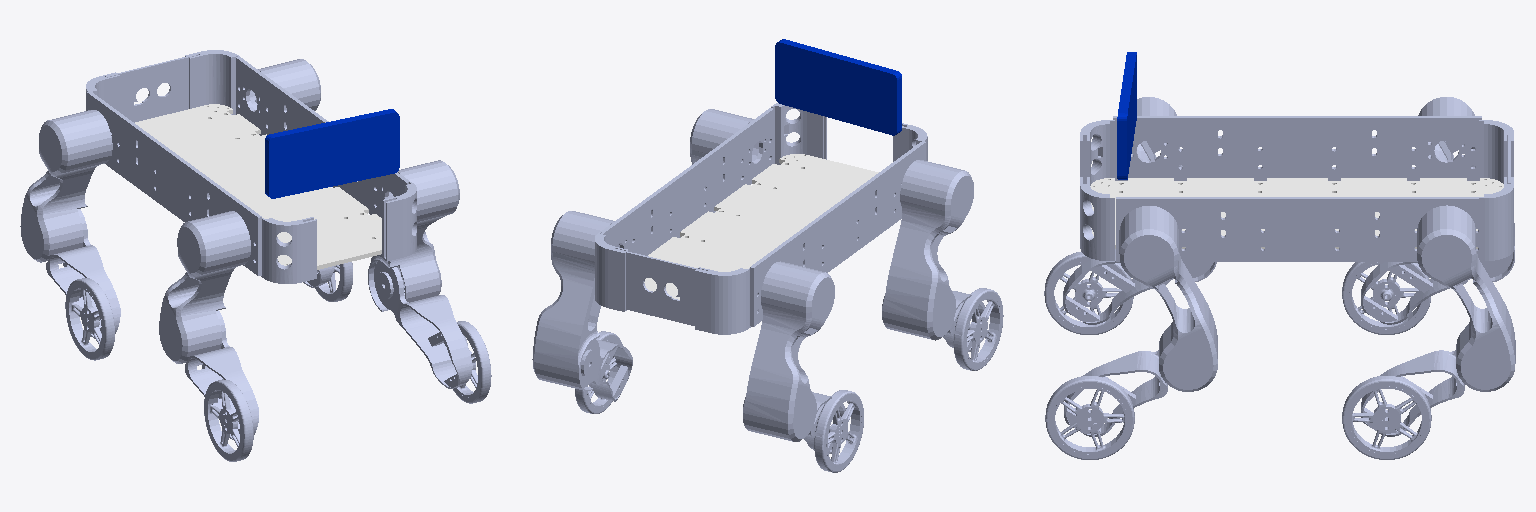
robot.urdf — bangar:
<robot name="bangar">
  <link name="world"/>

   <joint name="world_to_base" type="fixed">
   <origin xyz="0 0 0" rpy="1.5708 0 0" />
   <parent link="world"/>
   <child link="base_link"/>
   </joint>
  <link name="base_link">
    <inertial>
      <origin xyz="0 0.00250000000000006 0" rpy="0 0 0" />
      <mass value="0.343903626200047" />
      <inertia ixx="0.00491345484236187" ixy="6.75209481308794E-23" ixz="9.56560652490405E-17"
               iyy="0.00567401345499297" iyz="-5.51940362752493E-21" izz="0.000761991544406925" />
    </inertial>
    <visual>
      <origin xyz="0 0 0" rpy="0 0 0" />
      <geometry><mesh filename="package://bangar/meshes/base_link.STL" /></geometry>
      <material name=""><color rgba="1 1 1 0.25" /></material>
    </visual>
    <collision>
      <origin xyz="0 0 0" rpy="0 0 0" />
      <geometry><mesh filename="package://bangar/meshes/base_link.STL" /></geometry>
    </collision>
  </link>

  <link name="left_side_link">
    <inertial>
      <origin xyz="0.0916207149155673 0.0293825036603796 -0.00341679023859331" rpy="0 0 0" />
      <mass value="0.122569497291097" />
      <inertia ixx="0.00140403619489622" ixy="-1.04966211515225E-09" ixz="-1.23875379054153E-07"
               iyy="0.00135175741702045" iyz="6.20890609011411E-07" izz="5.27895068738471E-05" />
    </inertial>
    <visual>
      <origin xyz="0 0 0" rpy="0 0 0" />
      <geometry><mesh filename="package://bangar/meshes/left_side_link.STL" /></geometry>
      <material name=""><color rgba="0.792156862745098 0.819607843137255 0.933333333333333 0.25" /></material>
    </visual>
    <collision>
      <origin xyz="0 0 0" rpy="0 0 0" />
      <geometry><mesh filename="package://bangar/meshes/left_side_link.STL" /></geometry>
    </collision>
  </link>

  <!-- Fixed: left_side stays fixed -->
  <joint name="left_side" type="fixed">
    <origin xyz="0 0 0" rpy="0 0 0" />
    <parent link="base_link" />
    <child link="left_side_link" />
    <axis xyz="0 0 0" />
  </joint>

  <link name="front_left_shoulder_link">
    <inertial>
      <origin xyz="-0.0242498427561751 -0.0615532399041465 -0.028205687060837" rpy="0 0 0" />
      <mass value="0.111436500014166" />
      <inertia ixx="0.000343151525758645" ixy="7.27108048623746E-06" ixz="-3.7830501022758E-06"
               iyy="0.000103200990321563" iyz="-9.02486413113497E-05" izz="0.000311962726644771" />
    </inertial>
    <visual>
      <origin xyz="0 0 -0.300260" rpy="0 0 0" />
      <geometry><mesh filename="package://bangar/meshes/front_left_shoulder_link.STL" /></geometry>
      <material name=""><color rgba="0.792156862745098 0.819607843137255 0.933333333333333 0.25" /></material>
    </visual>
    <collision>
      <origin xyz="0 0 -0.300260" rpy="0 0 0" />
      <geometry><mesh filename="package://bangar/meshes/front_left_shoulder_link.STL" /></geometry>
    </collision>
  </link>

  <!-- Fixed: proper limits for revolute joint -->
  <joint name="front_left_shoulder_joint" type="revolute">
    <origin xyz="0.15992 0.030824 0.15001" rpy="0 0 0" />
    <parent link="left_side_link" />
    <child link="front_left_shoulder_link" />
    <axis xyz="1 -2.1167E-05 -9.1685E-05" />
    <limit lower="-0.8" upper="0.8" effort="10" velocity="1.0" />
  </joint>

  <link name="front_left_knee_link">
    <inertial>
      <origin xyz="0.0163780260957682 -0.024186201715927 0.0427447139754695" rpy="0 0 0" />
      <mass value="0.0469764065146903" />
      <inertia ixx="0.000115003731465052" ixy="9.25199470142066E-06" ixz="-1.62071012049242E-05"
               iyy="8.99552098264021E-05" iyz="3.85584278751766E-05" izz="4.17691836399353E-05" />
    </inertial>
    <visual>
      <origin xyz="0 0 0" rpy="0 0 0" />
      <geometry><mesh filename="package://bangar/meshes/front_left_knee_link.STL" /></geometry>
      <material name=""><color rgba="0.792156862745098 0.819607843137255 0.933333333333333 0.25" /></material>
    </visual>
    <collision>
      <origin xyz="0 0 0" rpy="0 0 0" />
      <geometry><mesh filename="package://bangar/meshes/front_left_knee_link.STL" /></geometry>
    </collision>
  </link>

  <joint name="front_left_knee_joint" type="revolute">
    <origin xyz="-0.053581 -0.12362 -0.03993" rpy="0 0 0" />
    <parent link="front_left_shoulder_link" />
    <child link="front_left_knee_link" />
    <axis xyz="-1 2.1167E-05 9.1685E-05" />
    <limit lower="-1.2" upper="1.2" effort="10" velocity="1.0" />
  </joint>

  <link name="front_left_wheel_link">
    <inertial>
      <origin xyz="-0.00345948367577542 3.08599354889028E-05 -0.000243325319884358" rpy="0 0 0" />
      <mass value="0.0364044010438608" />
      <inertia ixx="4.90745198318007E-05" ixy="-5.23308940466511E-10" ixz="-2.34496946233023E-09"
               iyy="2.49257369703414E-05" iyz="-2.48564969046693E-10" izz="2.49045978562694E-05" />
    </inertial>
    <visual>
      <origin xyz="0 0 0" rpy="0 0 0" />
      <geometry><mesh filename="package://bangar/meshes/front_left_wheel_link.STL" /></geometry>
      <material name=""><color rgba="0.792156862745098 0.819607843137255 0.933333333333333 1" /></material>
    </visual>
    <collision>
      <origin xyz="0 0 0" rpy="0 0 0" />
      <geometry><mesh filename="package://bangar/meshes/front_left_wheel_link.STL" /></geometry>
    </collision>
  </link>

  <!-- Wheel: continuous so it can spin freely -->
  <joint name="front_left_wheel_joint" type="continuous">
    <origin xyz="0.045701 -0.060692 0.098927" rpy="0 0 0" />
    <parent link="front_left_knee_link" />
    <child link="front_left_wheel_link" />
    <axis xyz="1 -2.1167E-05 -9.1685E-05" />
  </joint>

  <link name="back_left_shoulder_link">
    <inertial>
      <origin xyz="-0.024277343823541 -0.0614127013324818 -0.0279336093794531" rpy="0 0 0" />
      <mass value="0.111436501193758" />
      <inertia ixx="0.000343151527784128" ixy="7.27033134841043E-06" ixz="-3.78449369812867E-06"
               iyy="0.000103165125527687" iyz="-9.02071431964769E-05" izz="0.000311998595046311" />
    </inertial>
    <visual>
      <origin xyz="0 0 0" rpy="0 0 0" />
      <geometry><mesh filename="package://bangar/meshes/back_left_shoulder_link.STL" /></geometry>
      <material name=""><color rgba="0.792156862745098 0.819607843137255 0.933333333333333 0.25" /></material>
    </visual>
    <collision>
      <origin xyz="0 0 0" rpy="0 0 0" />
      <geometry><mesh filename="package://bangar/meshes/back_left_shoulder_link.STL" /></geometry>
    </collision>
  </link>

  <!-- Fixed: back_left_shoulder changed from fixed to revolute so it can move -->
  <joint name="back_left_shoulder_joint" type="revolute">
    <origin xyz="0.15992 0.030824 -0.15001" rpy="0 0 0" />
    <parent link="left_side_link" />
    <child link="back_left_shoulder_link" />
    <axis xyz="1 -2.1167E-05 -9.1685E-05" />
    <limit lower="-0.8" upper="0.8" effort="10" velocity="1.0" />
  </joint>

  <link name="back_left_knee_link">
    <inertial>
      <origin xyz="0.0163780267171882 -0.0241777054605389 0.0427495200491601" rpy="0 0 0" />
      <mass value="0.0469764065207139" />
      <inertia ixx="0.000115003730996126" ixy="9.2487739889618E-06" ixz="-1.62089407217268E-05"
               iyy="8.99705351707301E-05" iyz="3.85488475607292E-05" izz="4.17538587787389E-05" />
    </inertial>
    <visual>
      <origin xyz="0 0 0" rpy="0 0 0" />
      <geometry><mesh filename="package://bangar/meshes/back_left_knee_link.STL" /></geometry>
      <material name=""><color rgba="0.792156862745098 0.819607843137255 0.933333333333333 0.25" /></material>
    </visual>
    <collision>
      <origin xyz="0 0 0" rpy="0 0 0" />
      <geometry><mesh filename="package://bangar/meshes/back_left_knee_link.STL" /></geometry>
    </collision>
  </link>

  <joint name="back_left_knee_joint" type="revolute">
    <origin xyz="-0.053609 -0.12348 -0.038963" rpy="0 0 0" />
    <parent link="back_left_shoulder_link" />
    <child link="back_left_knee_link" />
    <axis xyz="-1 2.1167E-05 9.1685E-05" />
    <limit lower="-1.2" upper="1.2" effort="10" velocity="1.0" />
  </joint>

  <link name="back_left_wheel_link">
    <inertial>
      <origin xyz="-0.00311043056266247 0.00343350444922308 -0.000594060142661279" rpy="0 0 0" />
      <mass value="0.0364044017227486" />
      <inertia ixx="4.9074520095698E-05" ixy="-4.99042727389426E-10" ixz="-2.08701996387899E-09"
               iyy="2.49257371479056E-05" iyz="-2.4849390943564E-10" izz="2.49045978738901E-05" />
    </inertial>
    <visual>
      <origin xyz="0 0 0" rpy="0 0 0" />
      <geometry><mesh filename="package://bangar/meshes/back_left_wheel_link.STL" /></geometry>
      <material name=""><color rgba="0.792156862745098 0.819607843137255 0.933333333333333 1" /></material>
    </visual>
    <collision>
      <origin xyz="0 0 0" rpy="0 0 0" />
      <geometry><mesh filename="package://bangar/meshes/back_left_wheel_link.STL" /></geometry>
    </collision>
  </link>

  <joint name="back_left_wheel_joint" type="continuous">
    <origin xyz="0.045352 -0.064075 0.099293" rpy="0 0 0" />
    <parent link="back_left_knee_link" />
    <child link="back_left_wheel_link" />
    <axis xyz="1 -2.1167E-05 -9.1685E-05" />
  </joint>

  <link name="right_side_link">
    <inertial>
      <origin xyz="-0.0958938589842034 0.0325565576507896 -0.000443152444056238" rpy="0 0 0" />
      <mass value="0.122569497291098" />
      <inertia ixx="0.00140403619489626" ixy="-1.04897582174696E-09" ixz="-1.23875219915196E-07"
               iyy="0.00135175740981989" iyz="6.28377643997383E-07" izz="5.27895140743918E-05" />
    </inertial>
    <visual>
      <origin xyz="0 0 0" rpy="0 0 0" />
      <geometry><mesh filename="package://bangar/meshes/right_side_link.STL" /></geometry>
      <material name=""><color rgba="0.792156862745098 0.819607843137255 0.933333333333333 0.25" /></material>
    </visual>
    <collision>
      <origin xyz="0 0 0" rpy="0 0 0" />
      <geometry><mesh filename="package://bangar/meshes/right_side_link.STL" /></geometry>
    </collision>
  </link>

  <!-- Fixed: right_side changed from continuous to fixed - was causing dislocation -->
  <joint name="right_side" type="fixed">
    <origin xyz="0 0 0" rpy="0 0 0" />
    <parent link="base_link" />
    <child link="right_side_link" />
    <axis xyz="0 0 0" />
  </joint>

  <link name="front_right_shoulder_link">
    <inertial>
      <origin xyz="0.0242695314756922 -0.0614083034868564 -0.0279500671367425" rpy="0 0 0" />
      <mass value="0.111437039455002" />
      <inertia ixx="0.000343154721624471" ixy="-7.29809879433052E-06" ixz="3.77362272396463E-06"
               iyy="0.00010320146557749" iyz="-9.0246819210571E-05" izz="0.000311964079702084" />
    </inertial>
    <visual>
      <origin xyz="0 0 0" rpy="0 0 0" />
      <geometry><mesh filename="package://bangar/meshes/front_right_shoulder_link.STL" /></geometry>
      <material name=""><color rgba="0.792156862745098 0.819607843137255 0.933333333333333 1" /></material>
    </visual>
    <collision>
      <origin xyz="0 0 0" rpy="0 0 0" />
      <geometry><mesh filename="package://bangar/meshes/front_right_shoulder_link.STL" /></geometry>
    </collision>
  </link>

  <!-- Fixed: front_right_shoulder changed from fixed to revolute -->
  <joint name="front_right_shoulder_joint" type="revolute">
    <origin xyz="-0.16418 0.030684 0.15002" rpy="0 0 0" />
    <parent link="right_side_link" />
    <child link="front_right_shoulder_link" />
    <axis xyz="-1 2.1167E-05 9.1685E-05" />
    <limit lower="-0.8" upper="0.8" effort="10" velocity="1.0" />
  </joint>

  <link name="front_right_knee_link">
    <inertial>
      <origin xyz="-0.0163710579816588 -0.025335304234355 0.0436819299069255" rpy="0 0 0" />
      <mass value="0.0469762290004462" />
      <inertia ixx="0.000115008138991003" ixy="-9.245774373626E-06" ixz="1.6195157879913E-05"
               iyy="8.9955520215524E-05" iyz="3.85590798612249E-05" izz="4.17627254222805E-05" />
    </inertial>
    <visual>
      <origin xyz="0 0 0" rpy="0 0 0" />
      <geometry><mesh filename="package://bangar/meshes/front_right_knee_link.STL" /></geometry>
      <material name=""><color rgba="0.792156862745098 0.819607843137255 0.933333333333333 1" /></material>
    </visual>
    <collision>
      <origin xyz="0 0 0" rpy="0 0 0" />
      <geometry><mesh filename="package://bangar/meshes/front_right_knee_link.STL" /></geometry>
    </collision>
  </link>

  <joint name="front_right_knee_joint" type="revolute">
    <origin xyz="0.053596 -0.12233 -0.039931" rpy="0 0 0" />
    <parent link="front_right_shoulder_link" />
    <child link="front_right_knee_link" />
    <axis xyz="1 -2.1167E-05 -9.1685E-05" />
    <limit lower="-1.2" upper="1.2" effort="10" velocity="1.0" />
  </joint>

  <link name="front_right_wheel_link">
    <inertial>
      <origin xyz="0.00345943903176227 -3.08602156906534E-05 -0.000243959080044265" rpy="0 0 0" />
      <mass value="0.0364044019910403" />
      <inertia ixx="4.90745203444793E-05" ixy="-5.23235544885243E-10" ixz="-2.0870404791462E-09"
               iyy="2.49257374202785E-05" iyz="2.48762408851665E-10" izz="2.49045978223675E-05" />
    </inertial>
    <visual>
      <origin xyz="0 0 0" rpy="0 0 0" />
      <geometry><mesh filename="package://bangar/meshes/front_right_wheel_link.STL" /></geometry>
      <material name=""><color rgba="0.792156862745098 0.819607843137255 0.933333333333333 1" /></material>
    </visual>
    <collision>
      <origin xyz="0 0 0" rpy="0 0 0" />
      <geometry><mesh filename="package://bangar/meshes/front_right_wheel_link.STL" /></geometry>
    </collision>
  </link>

  <joint name="front_right_wheel_joint" type="continuous">
    <origin xyz="-0.041948 -0.061778 0.099869" rpy="0 0 0" />
    <parent link="front_right_knee_link" />
    <child link="front_right_wheel_link" />
    <axis xyz="-1 2.1167E-05 9.1685E-05" />
  </joint>

  <link name="back_right_shoulder">
    <inertial>
      <origin xyz="0.0242695324977471 -0.0614138569421465 -0.0279378617441666" rpy="0 0 0" />
      <mass value="0.111437039478952" />
      <inertia ixx="0.000343154721881414" ixy="-7.2973448673755E-06" ixz="3.77507481151408E-06"
               iyy="0.000103165600887418" iyz="-9.02053207896858E-05" izz="0.000311999943885521" />
    </inertial>
    <visual>
      <origin xyz="0 0 0" rpy="0 0 0" />
      <geometry><mesh filename="package://bangar/meshes/back_right_shoulder.STL" /></geometry>
      <material name=""><color rgba="0.792156862745098 0.819607843137255 0.933333333333333 1" /></material>
    </visual>
    <collision>
      <origin xyz="0 0 0" rpy="0 0 0" />
      <geometry><mesh filename="package://bangar/meshes/back_right_shoulder.STL" /></geometry>
    </collision>
  </link>

  <joint name="back_right_shoulder_joint" type="revolute">
    <origin xyz="-0.1642 0.03083 -0.14998" rpy="0 0 0" />
    <parent link="right_side_link" />
    <child link="back_right_shoulder" />
    <axis xyz="-1 2.1167E-05 9.1685E-05" />
    <limit lower="-0.8" upper="0.8" effort="10" velocity="1.0" />
  </joint>

  <link name="back_right_knee_link">
    <inertial>
      <origin xyz="-0.0163711186740965 -0.0241768659895147 0.0427525168965597" rpy="0 0 0" />
      <mass value="0.0469762290094901" />
      <inertia ixx="0.000115008139456327" ixy="-9.24255479627753E-06" ixz="1.61969941358188E-05"
               iyy="8.99708451385747E-05" iyz="3.85494988641251E-05" izz="4.1747400025856E-05" />
    </inertial>
    <visual>
      <origin xyz="0 0 0" rpy="0 0 0" />
      <geometry><mesh filename="package://bangar/meshes/back_right_knee_link.STL" /></geometry>
      <material name=""><color rgba="0.792156862745098 0.819607843137255 0.933333333333333 1" /></material>
    </visual>
    <collision>
      <origin xyz="0 0 0" rpy="0 0 0" />
      <geometry><mesh filename="package://bangar/meshes/back_right_knee_link.STL" /></geometry>
    </collision>
  </link>

  <joint name="back_right_knee_joint" type="revolute">
    <origin xyz="0.053597 -0.12348 -0.038973" rpy="0 0 0" />
    <parent link="back_right_shoulder" />
    <child link="back_right_knee_link" />
    <axis xyz="1 -2.1167E-05 -9.1685E-05" />
    <limit lower="-1.2" upper="1.2" effort="10" velocity="1.0" />
  </joint>

  <link name="back_right_wheel_link">
    <inertial>
      <origin xyz="0.00345943910730329 -3.08603876238989E-05 -0.000243959791768056" rpy="0 0 0" />
      <mass value="0.0364044018127897" />
      <inertia ixx="4.90745202829949E-05" ixy="-5.23161734068817E-10" ixz="-2.08708256418111E-09"
               iyy="2.4925737321398E-05" iyz="2.48922240929157E-10" izz="2.49045978752581E-05" />
    </inertial>
    <visual>
      <origin xyz="0 0 0" rpy="0 0 0" />
      <geometry><mesh filename="package://bangar/meshes/back_right_wheel_link.STL" /></geometry>
      <material name=""><color rgba="0.792156862745098 0.819607843137255 0.933333333333333 1" /></material>
    </visual>
    <collision>
      <origin xyz="0 0 0" rpy="0 0 0" />
      <geometry><mesh filename="package://bangar/meshes/back_right_wheel_link.STL" /></geometry>
    </collision>
  </link>

  <joint name="back_right_wheel_joint" type="continuous">
    <origin xyz="-0.041948 -0.060609 0.098947" rpy="0 0 0" />
    <parent link="back_right_knee_link" />
    <child link="back_right_wheel_link" />
    <axis xyz="-1 2.1167E-05 9.1685E-05" />
  </joint>

  <link name="corners_link">
    <inertial>
      <origin xyz="0.000324114816951604 0.0284392028967639 -0.0146126822788208" rpy="0 0 0" />
      <mass value="0.146747406930242" />
      <inertia ixx="7.67482081787967E-05" ixy="6.70357166079442E-08" ixz="-2.16016594060275E-08"
               iyy="3.91454359004541E-05" iyz="5.00131913026472E-08" izz="9.26967601450286E-05" />
    </inertial>
    <visual>
      <origin xyz="0 0 0" rpy="0 0 0" />
      <geometry><mesh filename="package://bangar/meshes/corners_link.STL" /></geometry>
      <material name=""><color rgba="0.792156862745098 0.819607843137255 0.933333333333333 0.25" /></material>
    </visual>
    <collision>
      <origin xyz="0 0 0" rpy="0 0 0" />
      <geometry><mesh filename="package://bangar/meshes/corners_link.STL" /></geometry>
    </collision>
  </link>

  <joint name="corners" type="fixed">
    <origin xyz="0 0 0" rpy="0 0 0" />
    <parent link="base_link" />
    <child link="corners_link" />
    <axis xyz="0 0 0" />
  </joint>

  <link name="back_link">
    <inertial>
      <origin xyz="-0.000524467996778188 0.0309102349168932 -0.21400009211431" rpy="0 0 0" />
      <mass value="0.0219009258696528" />
      <inertia ixx="9.01748711815603E-06" ixy="1.72140663791308E-08" ixz="-3.7662634450594E-09"
               iyy="2.55520713024216E-05" iyz="2.54054436541843E-12" izz="3.45367059200823E-05" />
    </inertial>
    <visual>
      <origin xyz="0 0 0" rpy="0 0 0" />
      <geometry><mesh filename="package://bangar/meshes/back_link.STL" /></geometry>
      <material name=""><color rgba="0.792156862745098 0.819607843137255 0.933333333333333 1" /></material>
    </visual>
    <collision>
      <origin xyz="0 0 0" rpy="0 0 0" />
      <geometry><mesh filename="package://bangar/meshes/back_link.STL" /></geometry>
    </collision>
  </link>

  <joint name="back" type="fixed">
    <origin xyz="0 0 0" rpy="0 0 0" />
    <parent link="base_link" />
    <child link="back_link" />
    <axis xyz="0 0 0" />
  </joint>

  <link name="mobile_link">
    <inertial>
      <origin xyz="0.00224575020693452 0.114333266227171 0.171233744428172" rpy="0 0 0" />
      <mass value="0.115030973355293" />
      <inertia ixx="5.27502191216411E-05" ixy="5.25869316446247E-21" ixz="-1.50060090980378E-05"
               iyy="0.000239040093881845" iyz="-8.63982259577036E-21" izz="0.000287966191541454" />
    </inertial>
    <visual>
      <origin xyz="0 0 0" rpy="0 0 0" />
      <geometry><mesh filename="package://bangar/meshes/mobile_link.STL" /></geometry>
      <material name=""><color rgba="0.00784313725490196 0.23921568627451 0.823529411764706 1" /></material>
    </visual>
    <collision>
      <origin xyz="0 0 0" rpy="0 0 0" />
      <geometry><mesh filename="package://bangar/meshes/mobile_link.STL" /></geometry>
    </collision>
  </link>

  <joint name="mobile_joint" type="fixed">
    <origin xyz="0 0 0" rpy="0 0 0" />
    <parent link="base_link" />
    <child link="mobile_link" />
    <axis xyz="0 0 0" />
  </joint>

</robot>

--- Facts derived from the render (not from the file) ---
Views: 3 orthographic renders of the robot side by side, from view 1: azimuth 30°, elevation 25°; view 2: azimuth 150°, elevation 25°; view 3: azimuth 270°, elevation 25°.
Robot: bangar — 19 links, 18 joints (8 revolute, 4 continuous, 6 fixed); root link world; default pose: all joints at 0.
Links seen in each view (by area): view 1: base_link, corners_link, mobile_link, back_right_shoulder, front_right_shoulder_link, right_side_link, front_left_knee_link, front_left_shoulder_link, left_side_link, back_link, front_right_wheel_link, back_right_wheel_link (+5 smaller); view 2: base_link, front_right_shoulder_link, back_right_shoulder, left_side_link, corners_link, mobile_link, back_left_shoulder_link, right_side_link, back_link, front_right_wheel_link, back_right_wheel_link, back_left_knee_link (+2 smaller); view 3: right_side_link, left_side_link, front_left_shoulder_link, back_left_shoulder_link, corners_link, base_link, back_left_wheel_link, front_left_wheel_link, front_right_wheel_link, back_right_wheel_link, back_left_knee_link, back_right_knee_link (+5 smaller).
Boxes of the visible links, x1,y1,x2,y2 form: base_link: [135, 104, 381, 269]; corners_link: [86, 50, 416, 283]; mobile_link: [265, 109, 399, 198]; back_right_shoulder: [20, 110, 112, 262]; front_right_shoulder_link: [159, 211, 250, 363]; right_side_link: [86, 91, 261, 275]; front_left_knee_link: [374, 261, 472, 388]; front_left_shoulder_link: [368, 160, 459, 311]; left_side_link: [236, 57, 409, 217]; back_link: [105, 54, 197, 122]; front_right_wheel_link: [204, 379, 253, 461]; back_right_wheel_link: [65, 278, 114, 360]; base_link: [644, 154, 878, 299]; front_right_shoulder_link: [882, 160, 973, 340]; back_right_shoulder: [743, 261, 834, 441]; left_side_link: [601, 108, 773, 255]; corners_link: [595, 103, 927, 334]; mobile_link: [775, 39, 901, 135]; back_left_shoulder_link: [532, 211, 619, 391]; right_side_link: [750, 141, 925, 326]; back_link: [615, 249, 708, 325]; front_right_wheel_link: [953, 288, 1003, 370]; back_right_wheel_link: [814, 390, 863, 472]; back_left_knee_link: [580, 339, 632, 401]; right_side_link: [1113, 116, 1481, 180]; left_side_link: [1116, 197, 1484, 261]; front_left_shoulder_link: [1119, 206, 1217, 391]; back_left_shoulder_link: [1417, 205, 1515, 391]; corners_link: [1080, 120, 1513, 260]; base_link: [1090, 178, 1503, 248]; back_left_wheel_link: [1342, 376, 1431, 459]; front_left_wheel_link: [1045, 376, 1134, 459]; front_right_wheel_link: [1044, 252, 1133, 334]; back_right_wheel_link: [1342, 262, 1430, 334]; back_left_knee_link: [1361, 350, 1464, 436]; back_right_knee_link: [1361, 253, 1512, 324].
Bounding box of the posed robot: 0.3242 × 0.4746 × 0.3493 m (x, y, z).
Meshes: 18 distinct files referenced, 18 mesh visuals loaded (18 binary STL).
